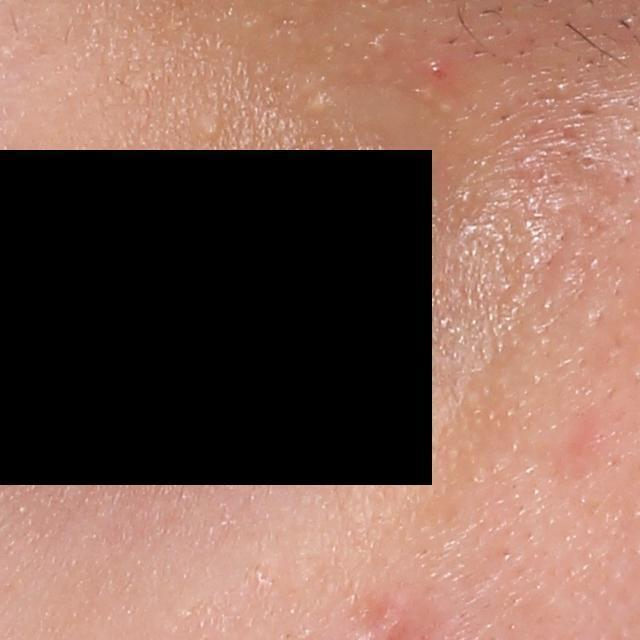comedo: (575, 147, 606, 181)
other: (194, 115, 229, 136)
